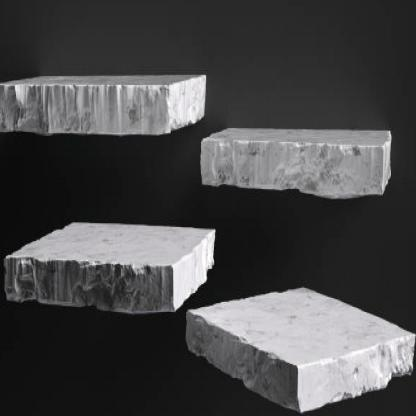Metamorphic_Marble: (184, 279, 415, 415), (1, 213, 222, 317), (196, 118, 394, 202), (0, 67, 212, 136)
